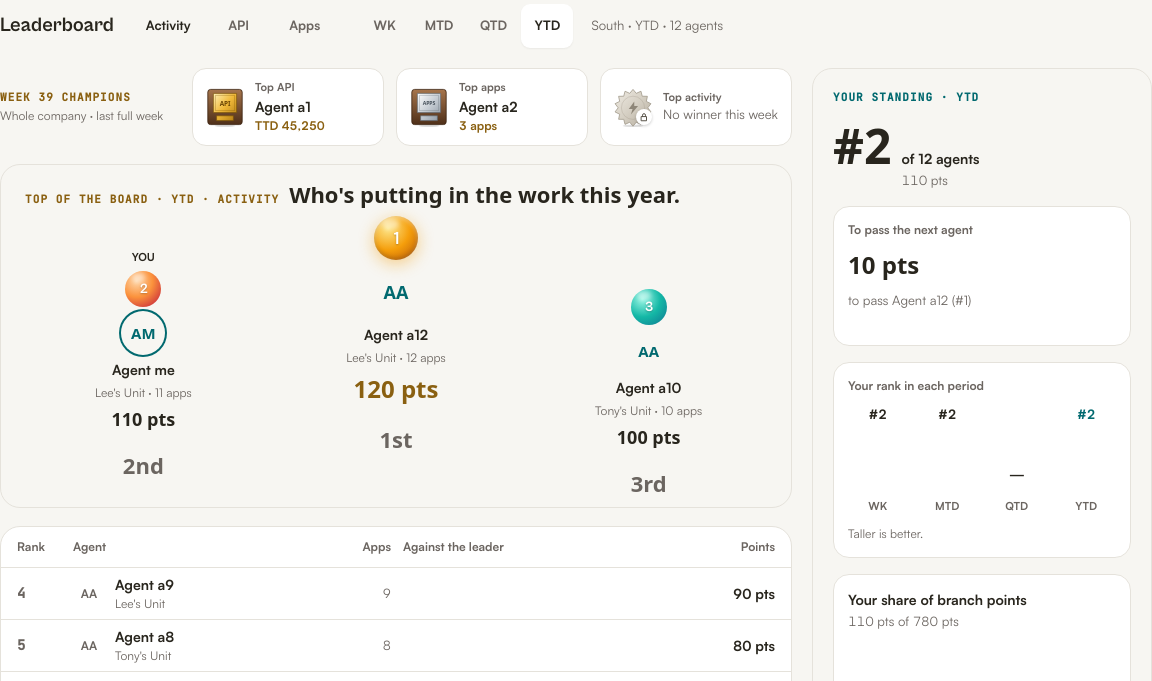
Test case: FR Leaderboard — read-time derivations (API board) › rank per period equals arenaStanding on the board, the selected period highlighted, a missing rank as —
The width and height of the screenshot is (1152, 681).
Step 1. Click the radio button with test id "fr-leaderboard-board-api" → {"x": 239, "y": 26}, box [207, 4, 271, 48]
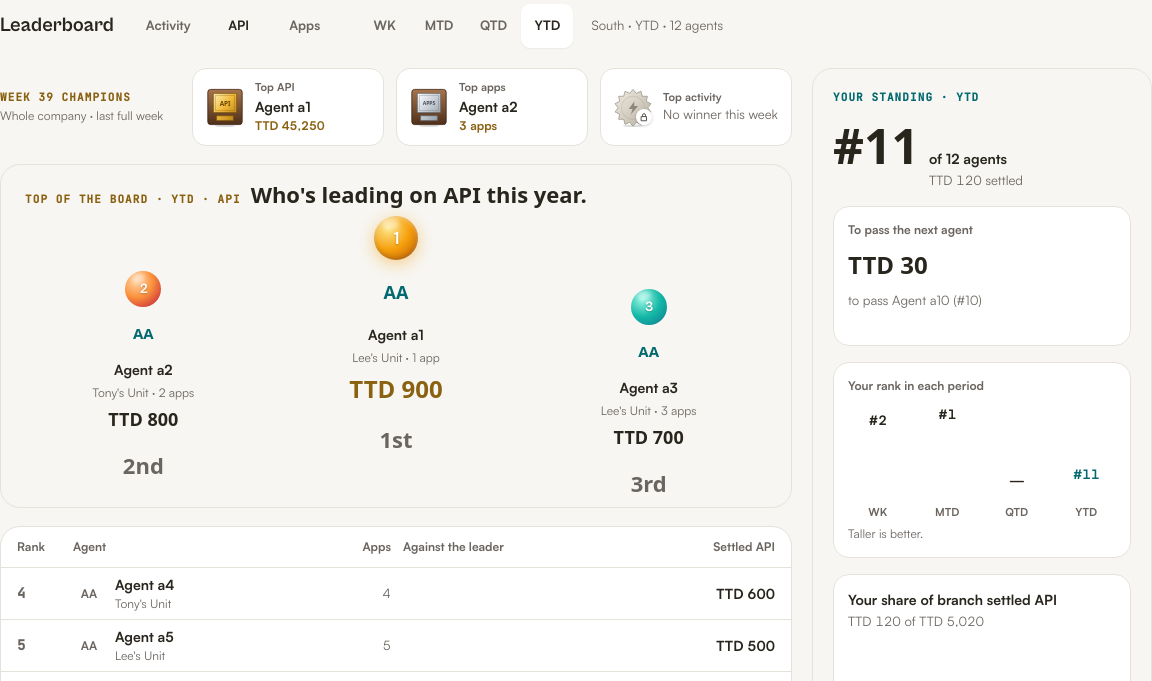
Check: the text with test id "fr-leaderboard-you-rank" reads "#11", box [833, 112, 919, 178]
Check: the text with test id "fr-leaderboard-you-value" reads "TTD 120 settled", box [929, 170, 1023, 190]
Step 2. Click the radio button with test id "fr-leaderboard-period-wk" → {"x": 385, "y": 26}, box [359, 4, 411, 48]
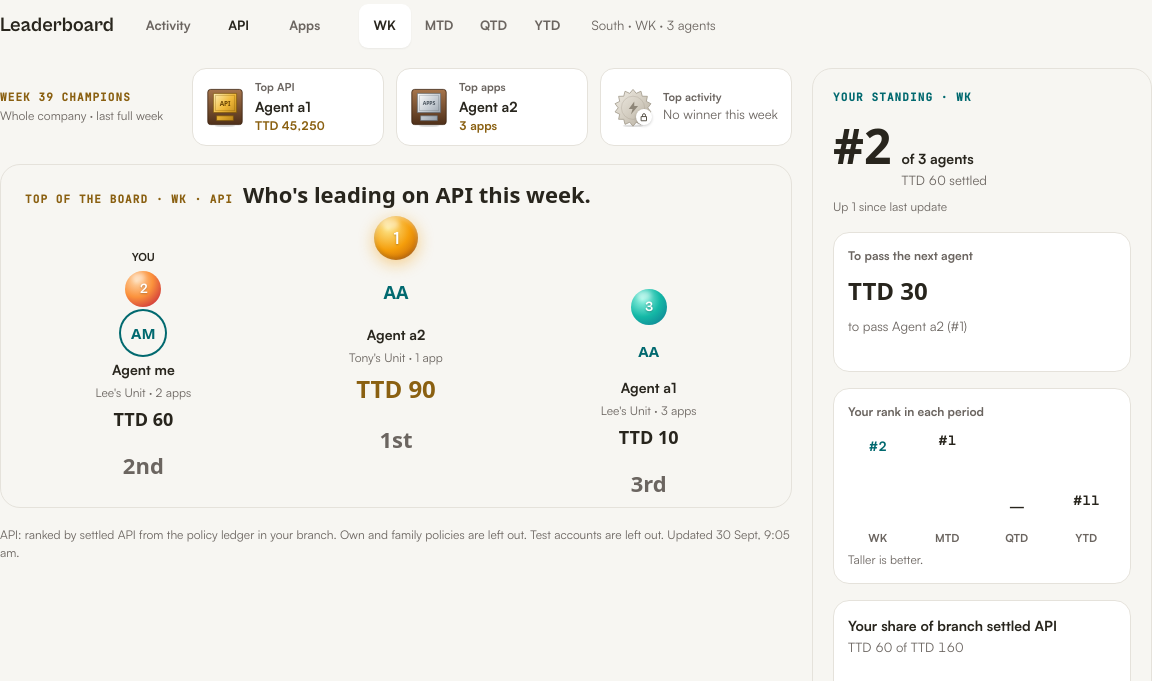
Check: the text with test id "fr-leaderboard-moved" reads "Up 1 since last update", box [833, 199, 947, 214]
